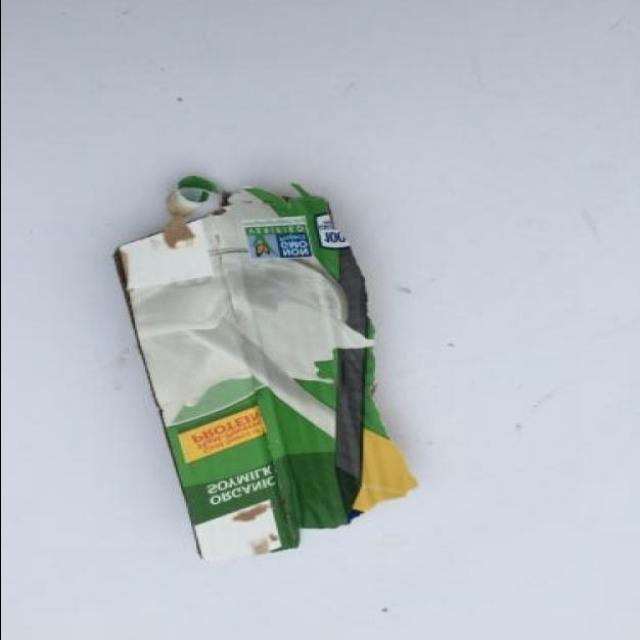cardboard paper: (120, 179, 417, 561)
